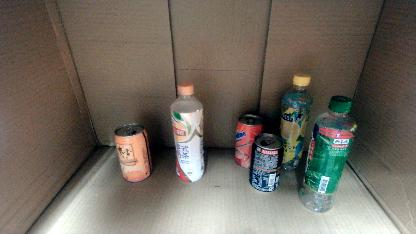Can: (114, 122, 156, 184), (248, 132, 282, 192), (234, 113, 266, 168)
Plastic Bottle: (296, 94, 358, 214), (170, 83, 206, 183), (279, 72, 313, 171)
